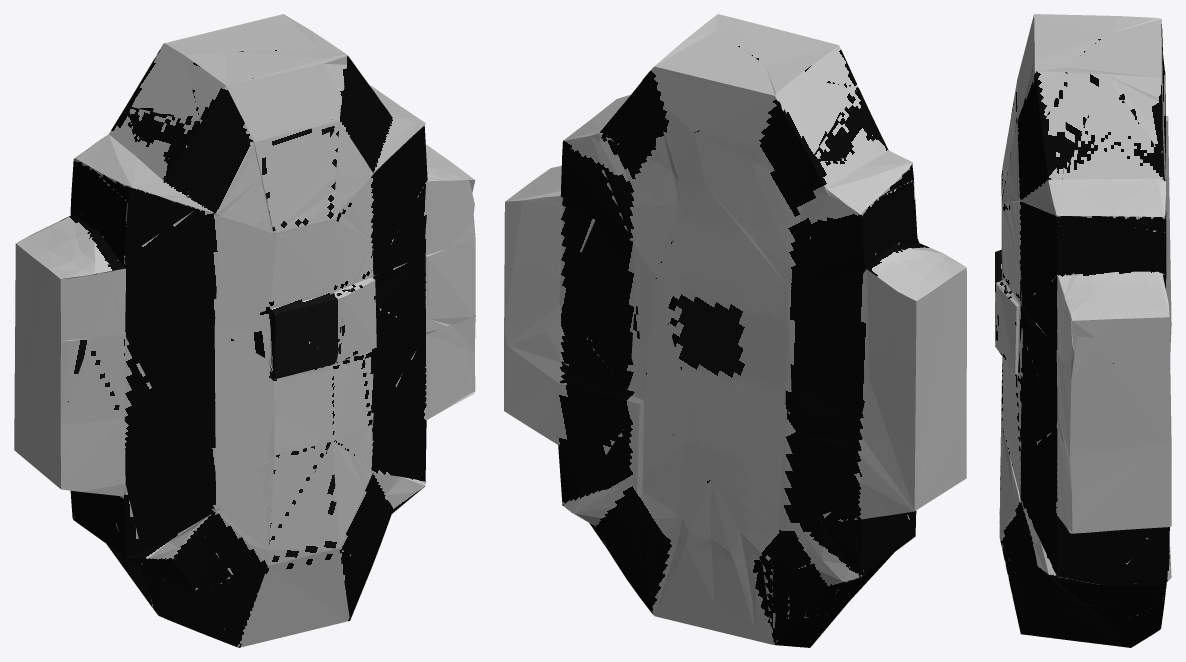
3 views of the same model, side by side, from view 1: azimuth 30°, elevation 25°; view 2: azimuth 150°, elevation 25°; view 3: azimuth 270°, elevation 25° (orthographic).
Visible parts, largest first — view 1: OBJ0a6; view 2: OBJ0a6; view 3: OBJ0a6.
Part boxes in pixels (x1=…): OBJ0a6: x1=14, y1=14, x2=475, y2=647; OBJ0a6: x1=504, y1=14, x2=966, y2=647; OBJ0a6: x1=995, y1=14, x2=1171, y2=647.
Bounding box in the file's own units: 0.149 × 0.1933 × 0.0547.
Materials: 1 (1 with a texture image).
